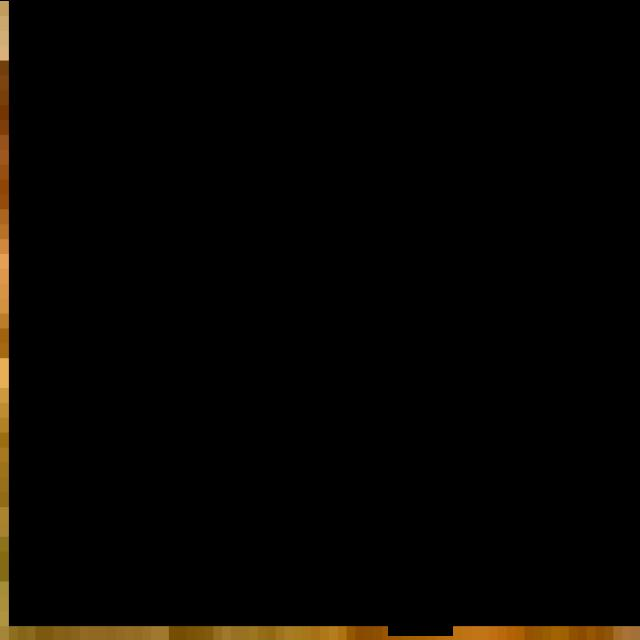fire: (9, 0, 640, 625)
